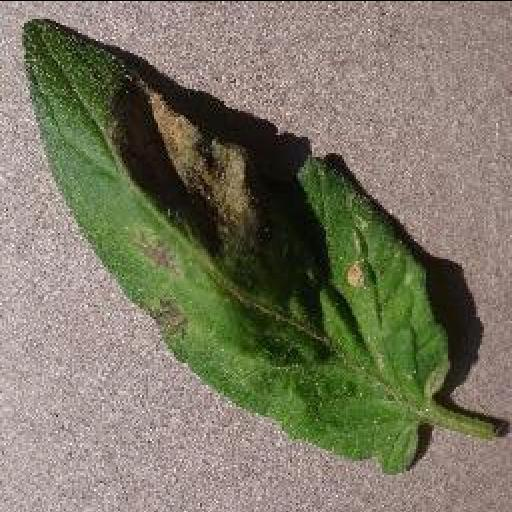disease_tomato: (22, 18, 448, 472)
